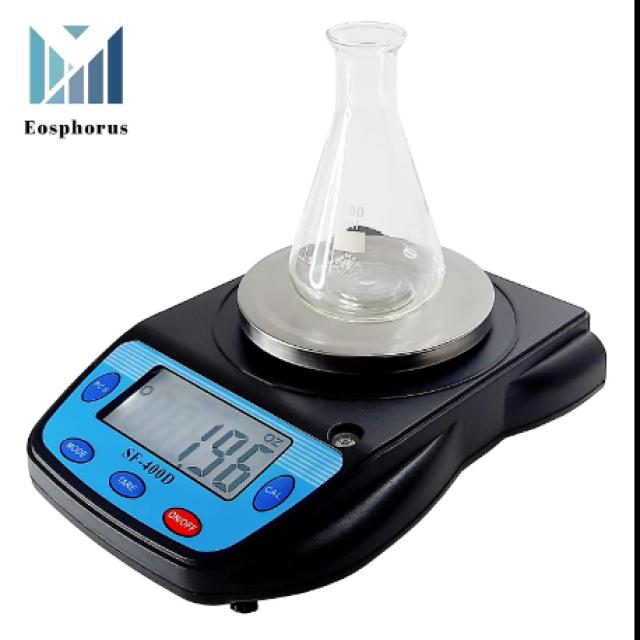.: (173, 461, 184, 470)
1: (175, 422, 225, 464)
6: (218, 436, 276, 492)
9: (186, 428, 248, 478)
screen: (93, 363, 297, 503)
